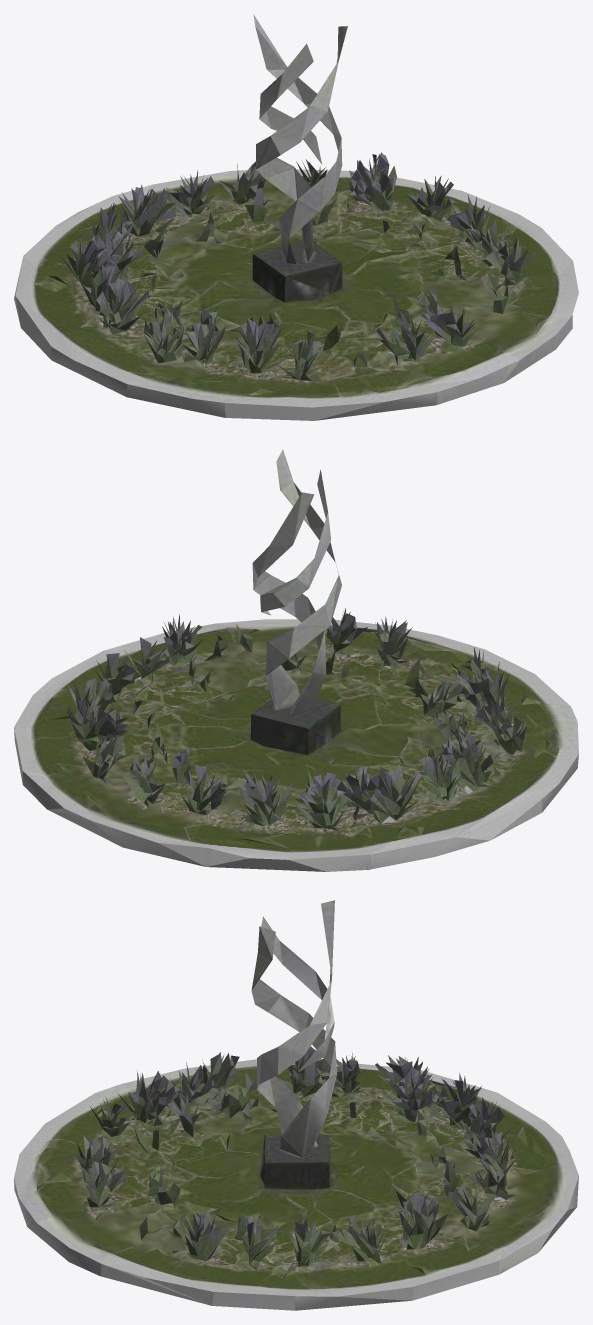
The model's file is kv_skulptur.glb.
The picture shows the model from 3 angles, top to bottom: view 1: azimuth 30°, elevation 25°; view 2: azimuth 150°, elevation 25°; view 3: azimuth 270°, elevation 25°; orthographic projection.
Size of the model in its own units: 1.9 by 1.05 by 1.9.
Materials: 1 (1 with a texture image).
